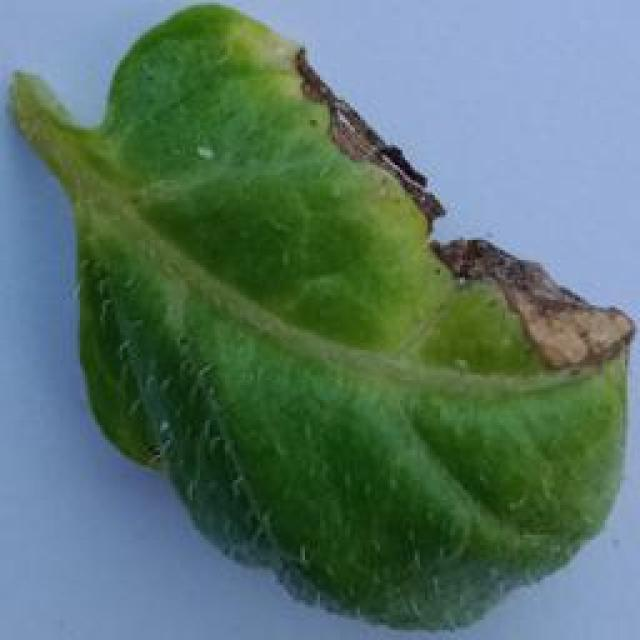Potato_Late_Blight: (73, 0, 636, 624)
